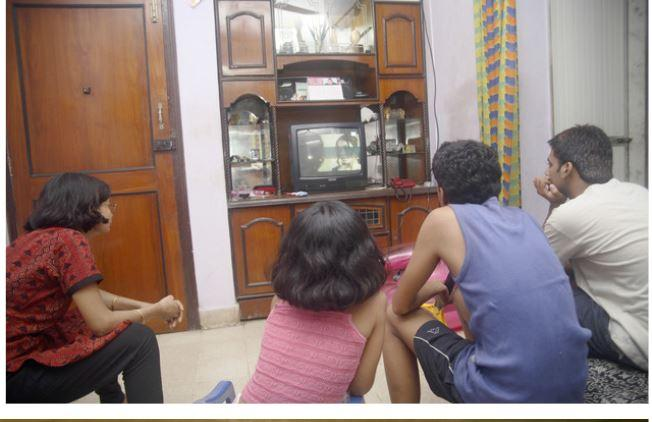TV: (287, 125, 368, 187)
door: (8, 0, 192, 330)
